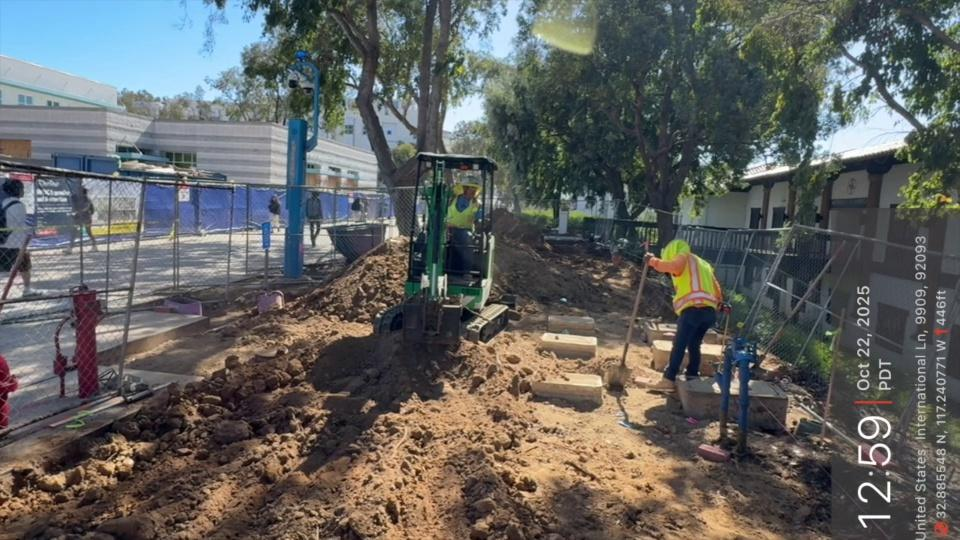Exacavator: (371, 150, 516, 353)
